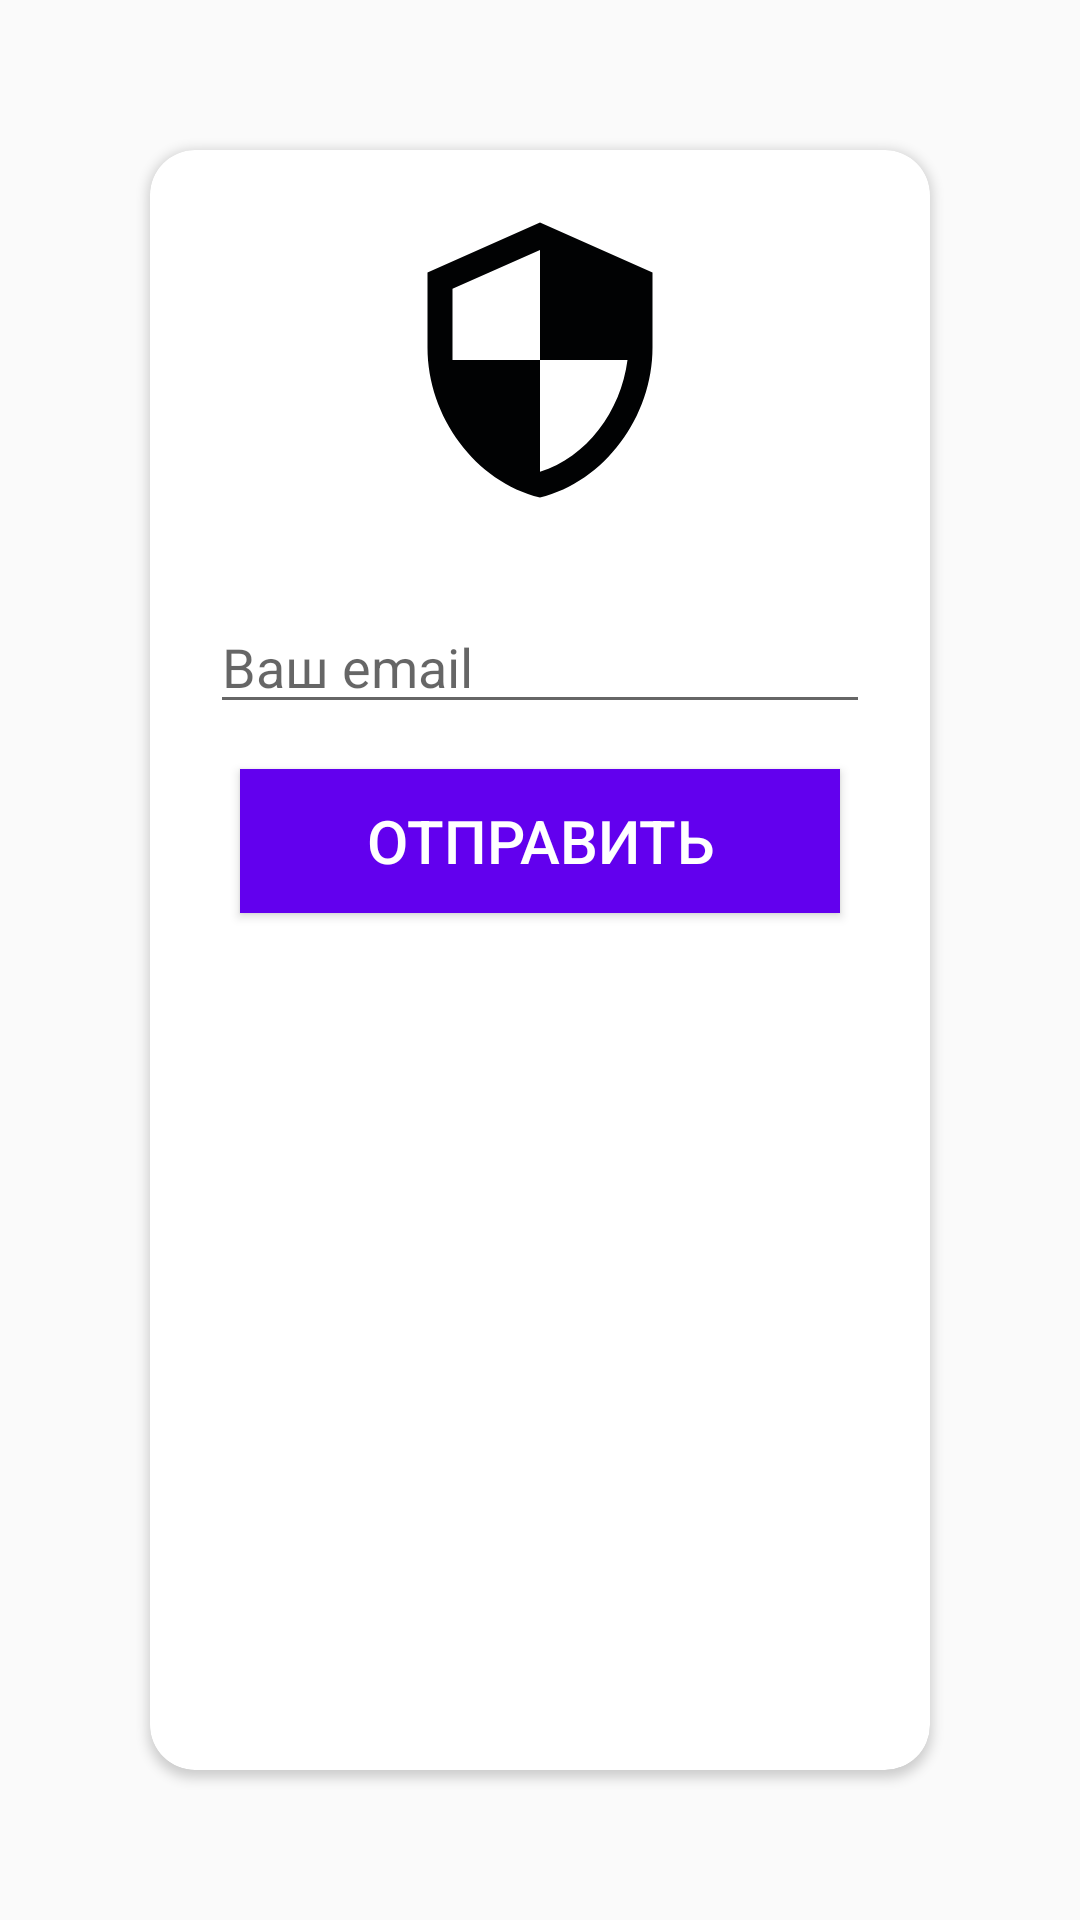

Where to tap for icons on this 1080x1920 app screen, as point (x, y):
security: point (540, 360)
